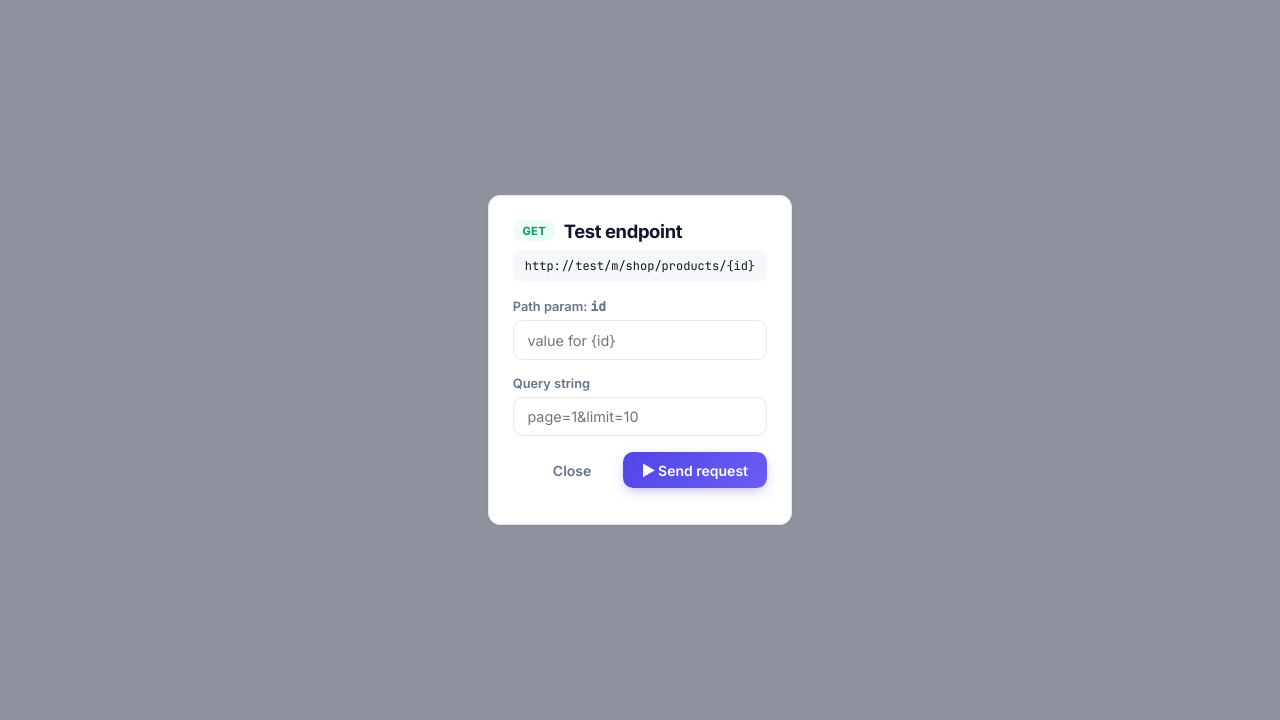
Test case: MockTester path params › shows an input per path param and disables send until filled
The width and height of the screenshot is (1280, 720).
expect the button "▶ Send request" is disabled: met, box [622,452,767,488]
In the field labelled "Path param: id": x=640, y=340 [513,320,767,360], type "7"
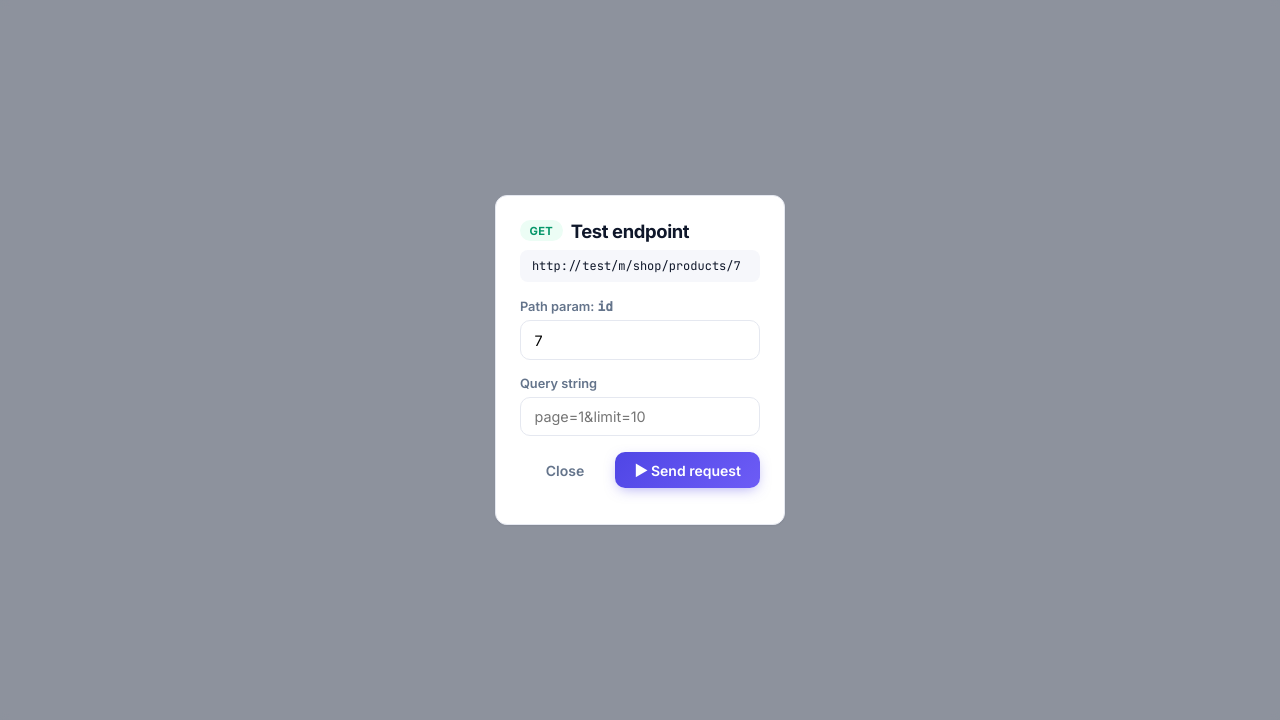
expect the button "▶ Send request" is enabled: met, box [615,452,760,488]
expect the text "http://test/m/shop/products/7" is shown: met, box [520,250,760,282]
